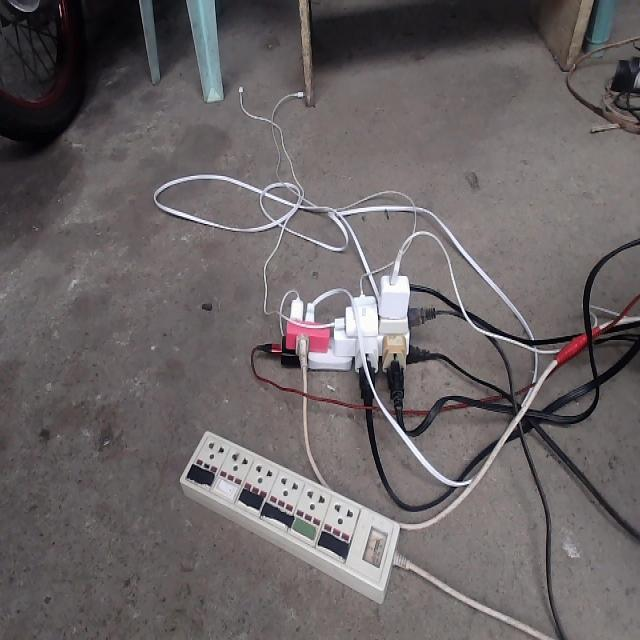-: (256, 245, 441, 415)
